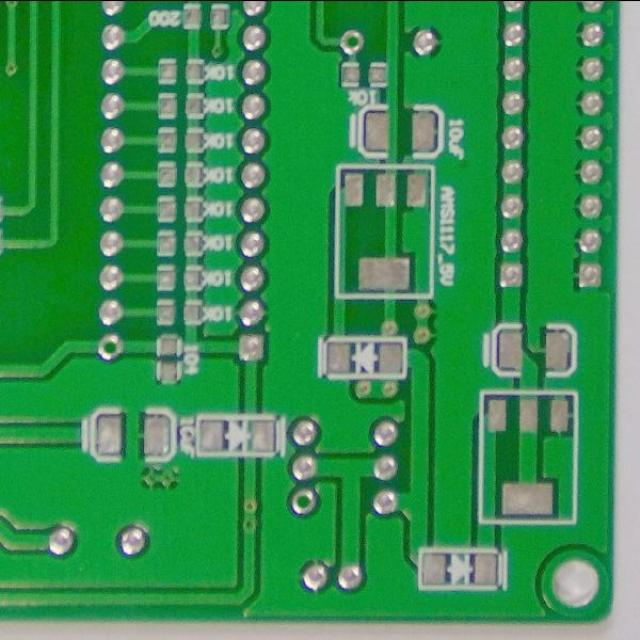Missing_Hole: (93, 331, 127, 364), (286, 487, 320, 518), (337, 28, 366, 55)
